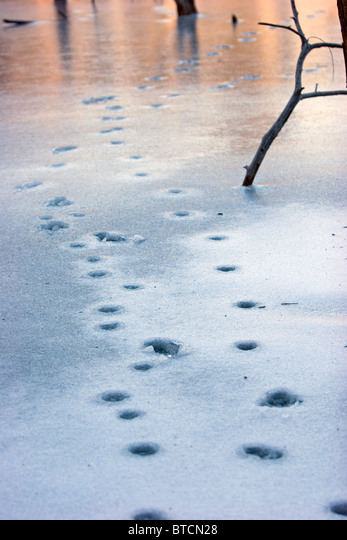fox: (233, 437, 288, 464), (257, 383, 306, 412), (91, 388, 139, 406), (125, 440, 164, 460), (133, 365, 157, 372)
